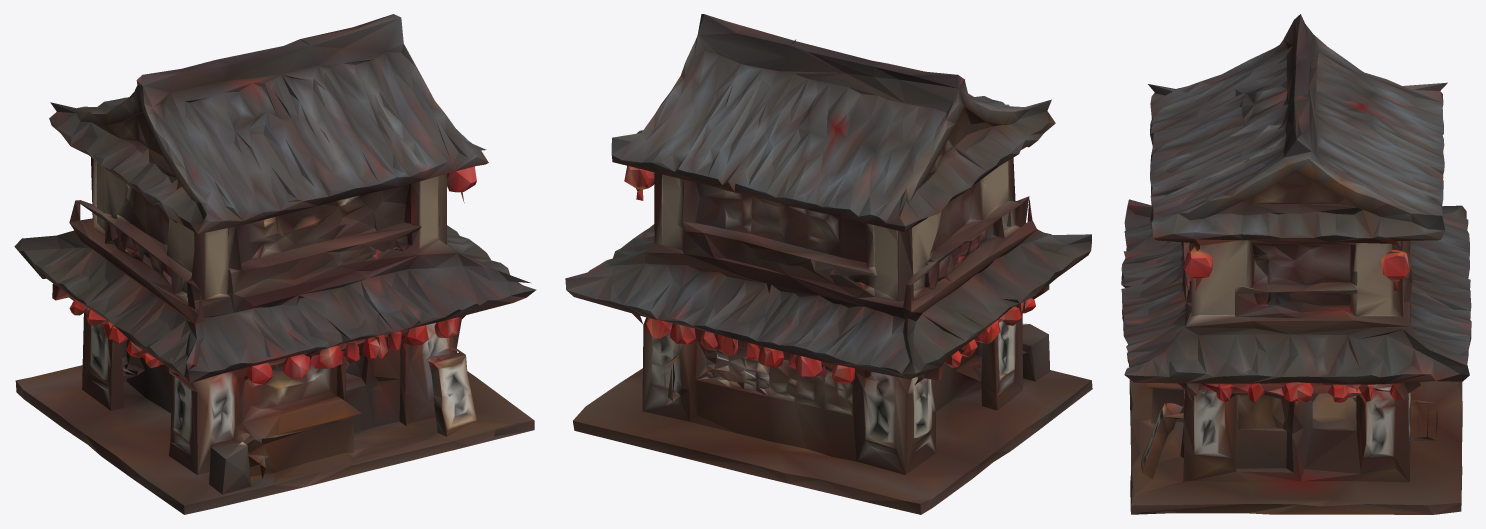
Rendered from bq_shop_lantern.vc.glb.
3 renders of one model, left to right at view 1: azimuth 30°, elevation 25°; view 2: azimuth 150°, elevation 25°; view 3: azimuth 270°, elevation 25°, orthographic. The views are drawn at different scales.
Visible parts, largest first — view 1: bq_shop_lantern; view 2: bq_shop_lantern; view 3: bq_shop_lantern.
Boxes of the visible parts, <box> form: bq_shop_lantern: <box>14,14,536,514</box>; bq_shop_lantern: <box>565,14,1092,514</box>; bq_shop_lantern: <box>1121,14,1471,514</box>.
Size of the model in its own units: 1.99 by 1.98 by 1.76.
